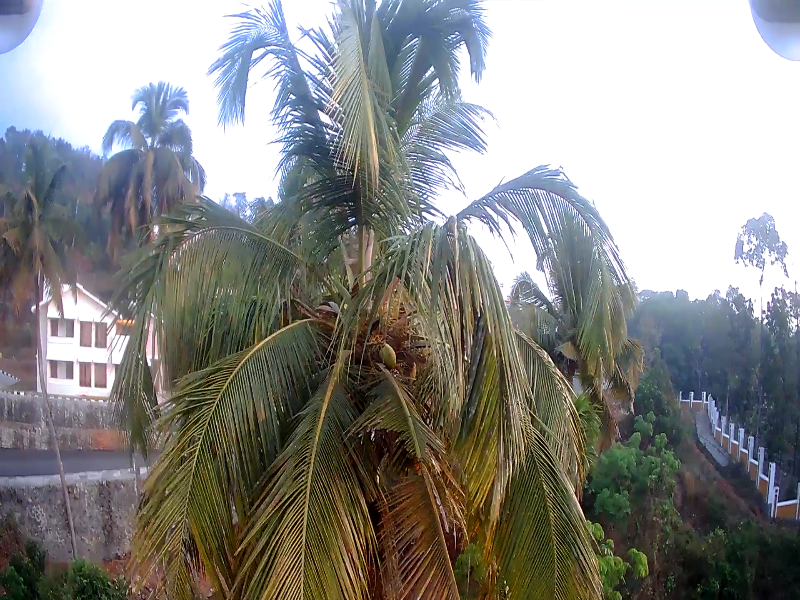coconut: (378, 340, 396, 367)
